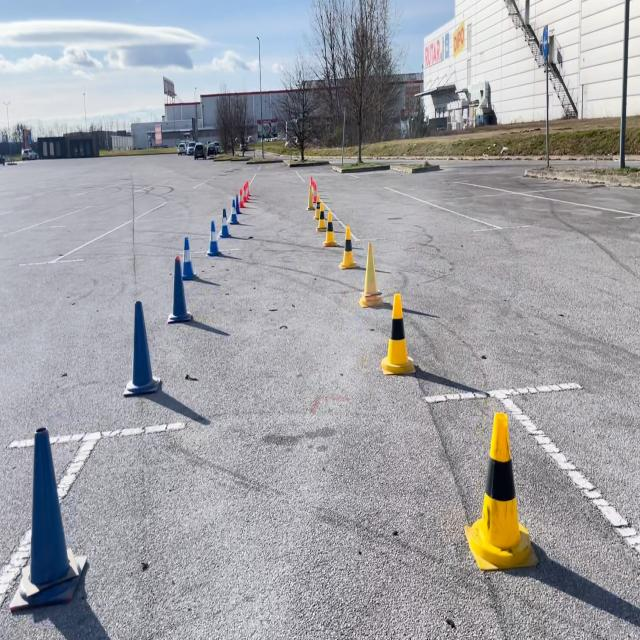blue_cone: (6, 420, 84, 609), (122, 297, 163, 396), (166, 252, 193, 323), (180, 234, 197, 284), (208, 218, 220, 260), (218, 205, 232, 238), (228, 195, 239, 228), (232, 188, 242, 220)
orange_cone: (308, 175, 318, 204), (240, 182, 250, 202)
yellow_cone: (464, 408, 534, 572), (379, 290, 415, 375), (358, 238, 384, 307), (338, 224, 358, 269), (322, 209, 336, 247), (318, 198, 329, 237), (306, 179, 314, 211), (315, 198, 323, 221)
